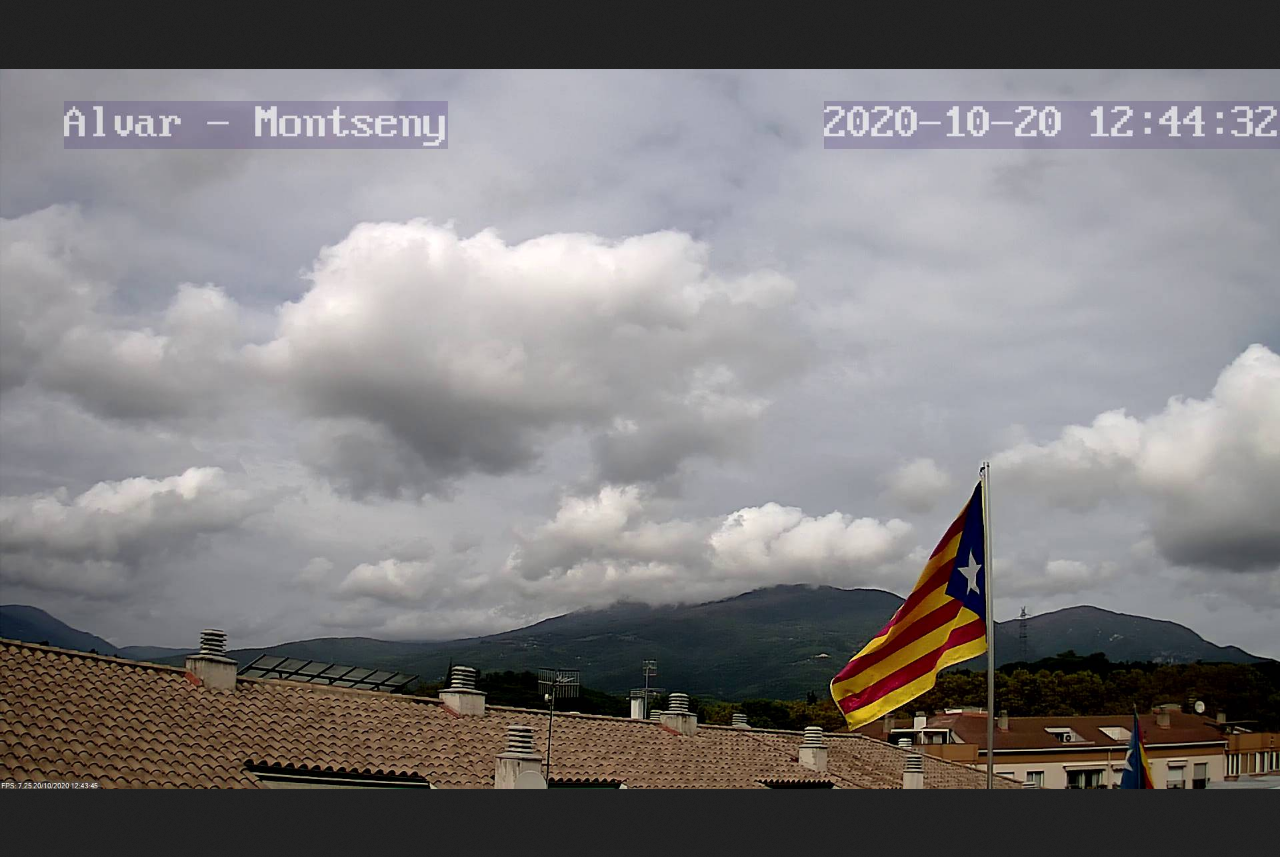yes: (829, 473, 992, 733)
